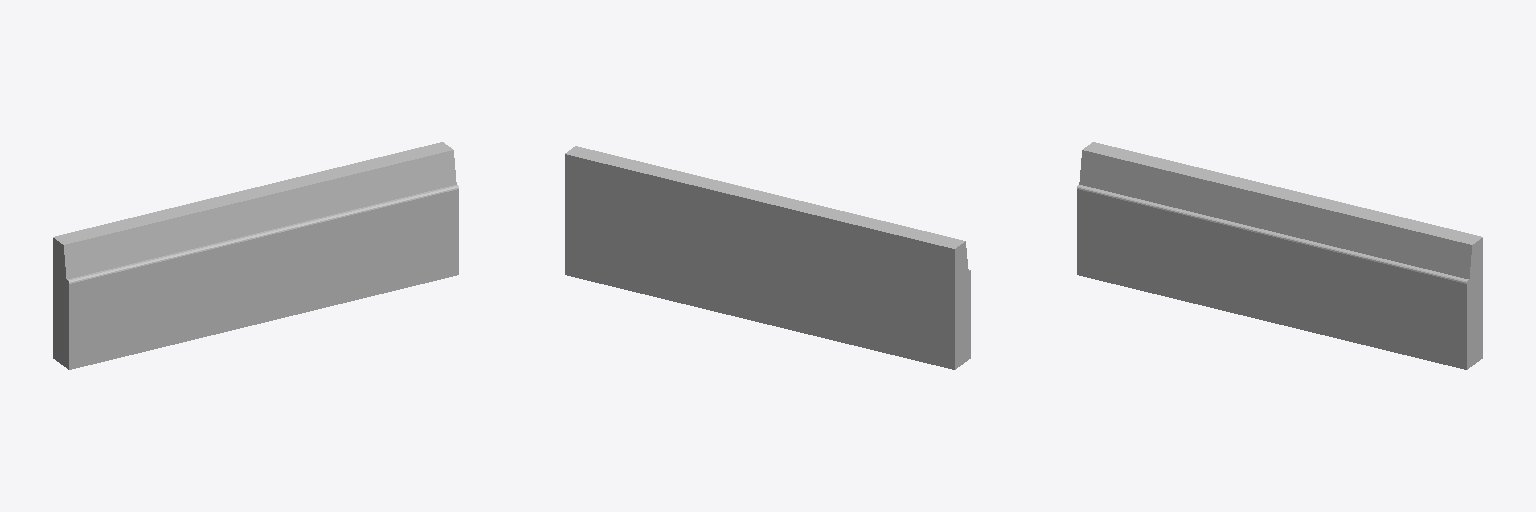
The model's file is original-22.obj.
3 views of the same model, side by side, from view 1: azimuth 30°, elevation 25°; view 2: azimuth 150°, elevation 25°; view 3: azimuth 330°, elevation 25° (orthographic).
Parts seen in each view (by area): view 1: LB_21_T1/LB_21_T/mesh13/mesh13-geometry#mesh13-geometry; view 2: LB_21_T1/LB_21_T/mesh13/mesh13-geometry#mesh13-geometry; view 3: LB_21_T1/LB_21_T/mesh13/mesh13-geometry#mesh13-geometry.
Part boxes in pixels (x1,y1,x2,y2): LB_21_T1/LB_21_T/mesh13/mesh13-geometry#mesh13-geometry: (53, 142, 458, 369); LB_21_T1/LB_21_T/mesh13/mesh13-geometry#mesh13-geometry: (565, 146, 970, 369); LB_21_T1/LB_21_T/mesh13/mesh13-geometry#mesh13-geometry: (1077, 142, 1482, 369).
Bounding box in the file's own units: 0.4739 × 0.1404 × 0.0351.